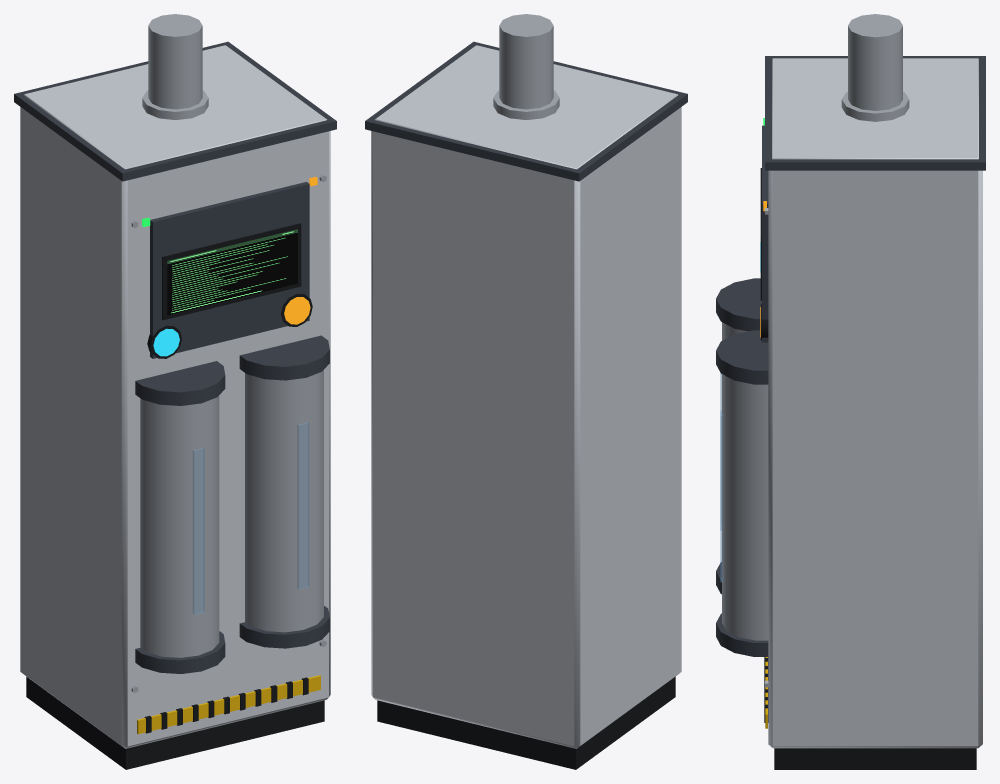
The model's file is scrubber_co2_scrubber_tower.glb.
3 renders of one model, left to right at view 1: azimuth 30°, elevation 25°; view 2: azimuth 150°, elevation 25°; view 3: azimuth 270°, elevation 25°, orthographic.
Parts seen in each view (by area): view 1: scrubber_co2_scrubber_tower; view 2: scrubber_co2_scrubber_tower; view 3: scrubber_co2_scrubber_tower.
Part boxes in pixels (x1,y1,x2,y2): scrubber_co2_scrubber_tower: [14, 14, 336, 769]; scrubber_co2_scrubber_tower: [365, 14, 687, 769]; scrubber_co2_scrubber_tower: [716, 14, 985, 769].
Bounding box in the file's own units: 0.82 × 2.5 × 0.88.
10 materials, 1 textured.
